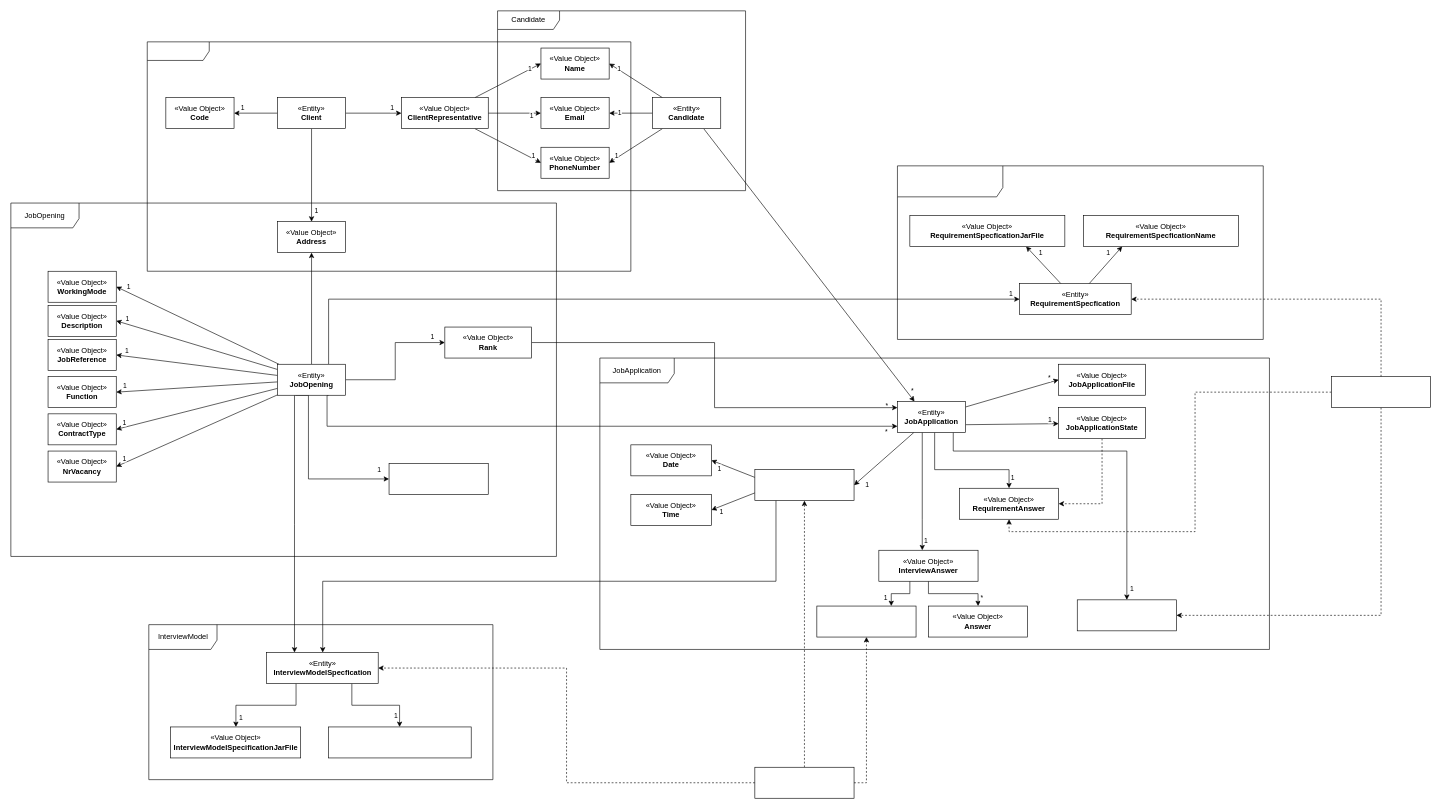
This 1442x809 diagram has some shape labels left out. The shapes that lost their labels are listed below. From the top down, each one's centre as x and y in pixels, then its label:
the point at 389,156: Client
the point at 1080,252: RequirementSpecification
the point at 1381,392: «Service» RequirementEvaluation
the point at 438,478: «Value Object» Recrutmentprocess
the point at 804,485: «Value Object» Interview
the point at 866,621: «Value Object» InterviewPoints
the point at 1126,615: «Value Object» RequirementResult
the point at 399,742: «Value Object» InterviewModelSpecificationIdentifier
the point at 804,782: «Service» InterviewEvaluation
